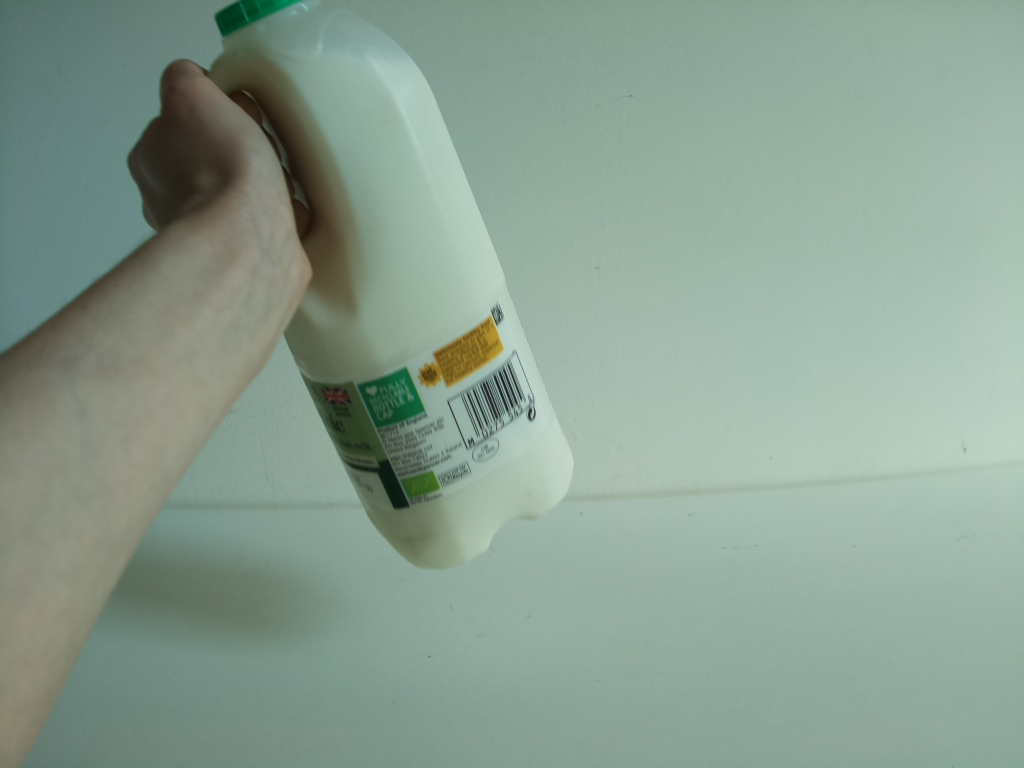milk: (198, 1, 584, 577)
